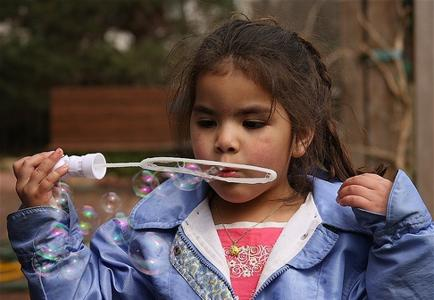person: (9, 18, 434, 300)
